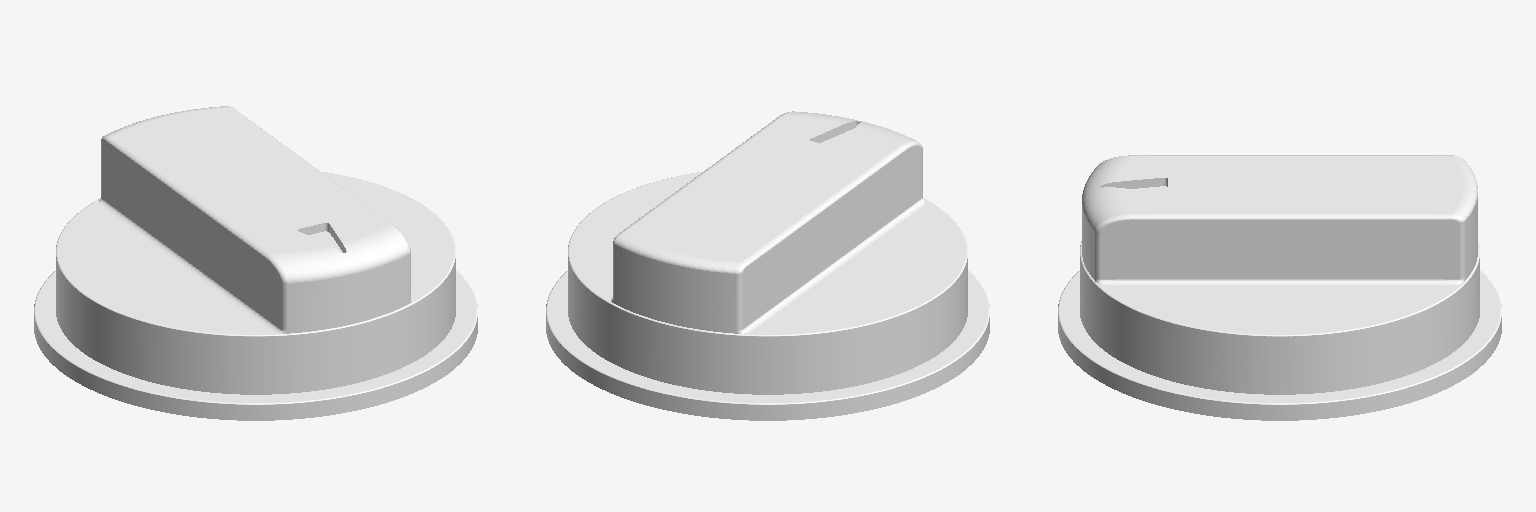
File: knob.obj
3 renders of one model, left to right at view 1: azimuth 30°, elevation 25°; view 2: azimuth 150°, elevation 25°; view 3: azimuth 270°, elevation 25°, orthographic.
Visible parts, largest first — view 1: Object_2; view 2: Object_2; view 3: Object_2.
Boxes of the visible parts, x1=… form: Object_2: x1=34, y1=106, x2=477, y2=420; Object_2: x1=546, y1=111, x2=989, y2=420; Object_2: x1=1058, y1=155, x2=1501, y2=420.
Size of the model in its own units: 1.22 by 0.43 by 1.22.